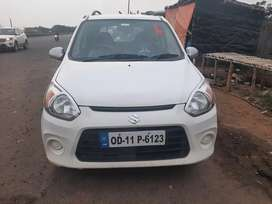OD11P6123: (99, 130, 165, 148)
